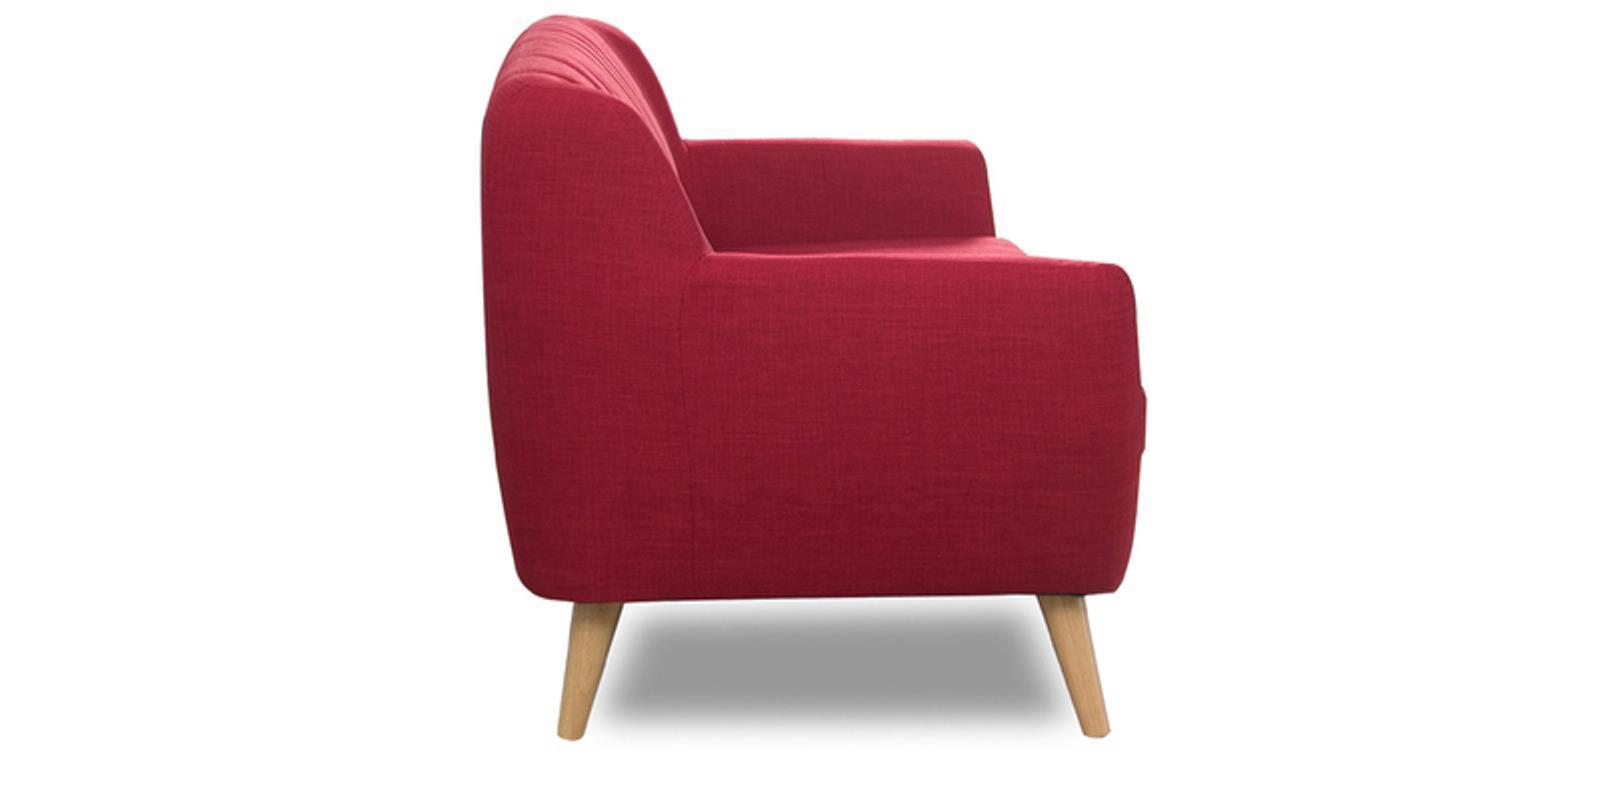Managua Three Seater Sofa in Red Colour by CasaCraft: (479, 11, 1148, 741)
